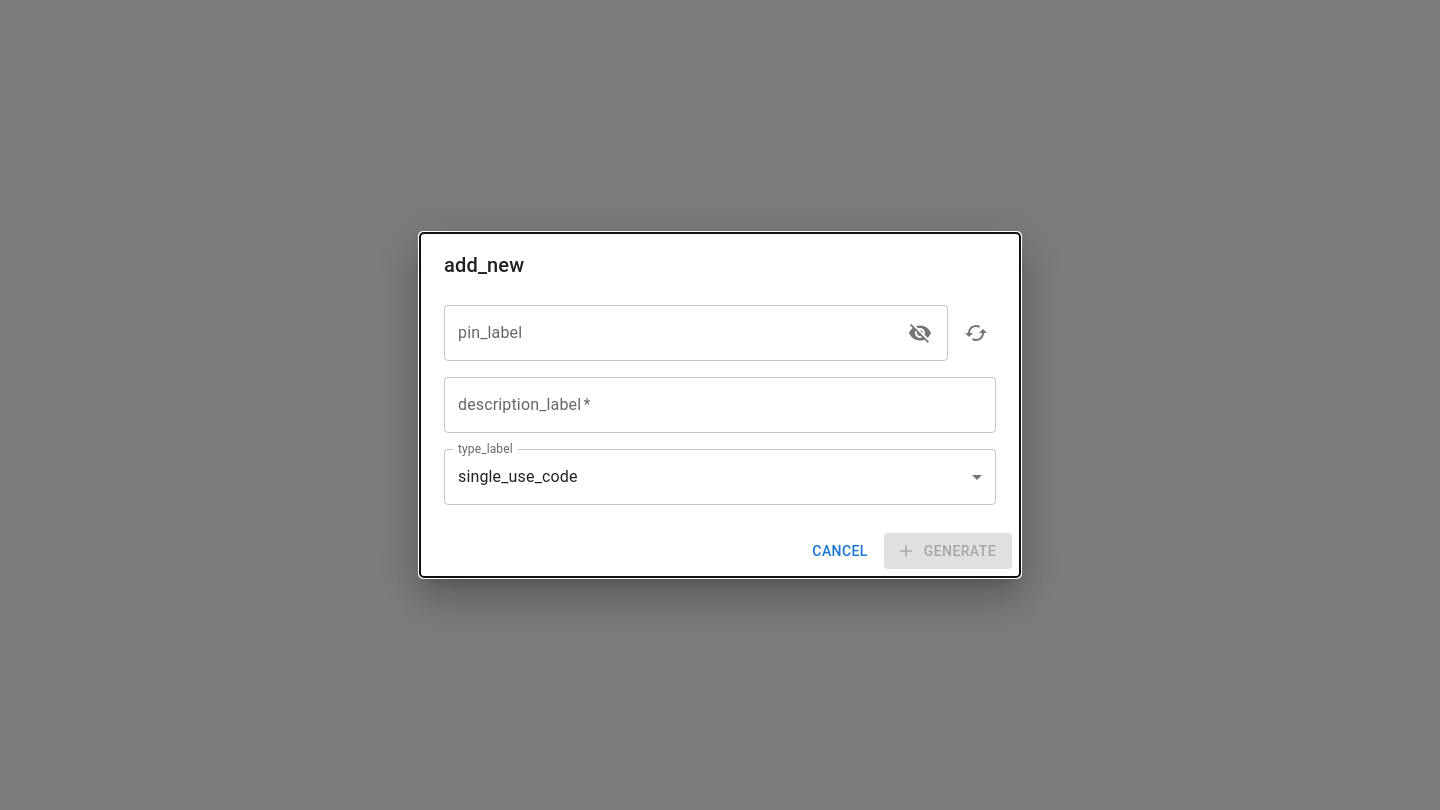
Test: AddCodeDialog › does not show Multi Use option
// Open the select
Press the mouse on the dropdown labelled "single_use_code" at coordinates (518, 477), box x1=458 y1=467 x2=578 y2=486
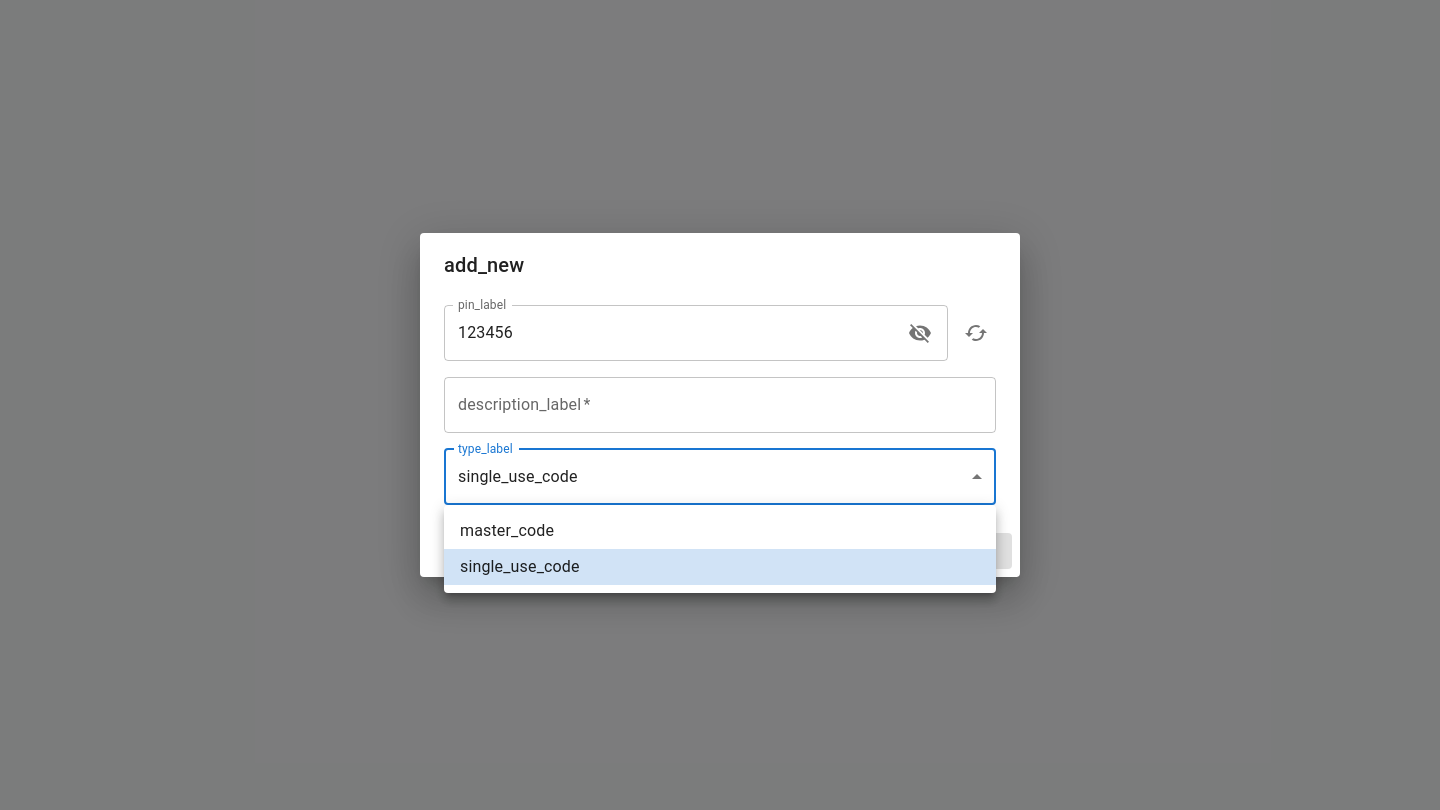
expect the option with test id "option-single" is shown: met, box x1=444 y1=549 x2=996 y2=585
expect the option with test id "option-master" is shown: met, box x1=460 y1=521 x2=554 y2=540
